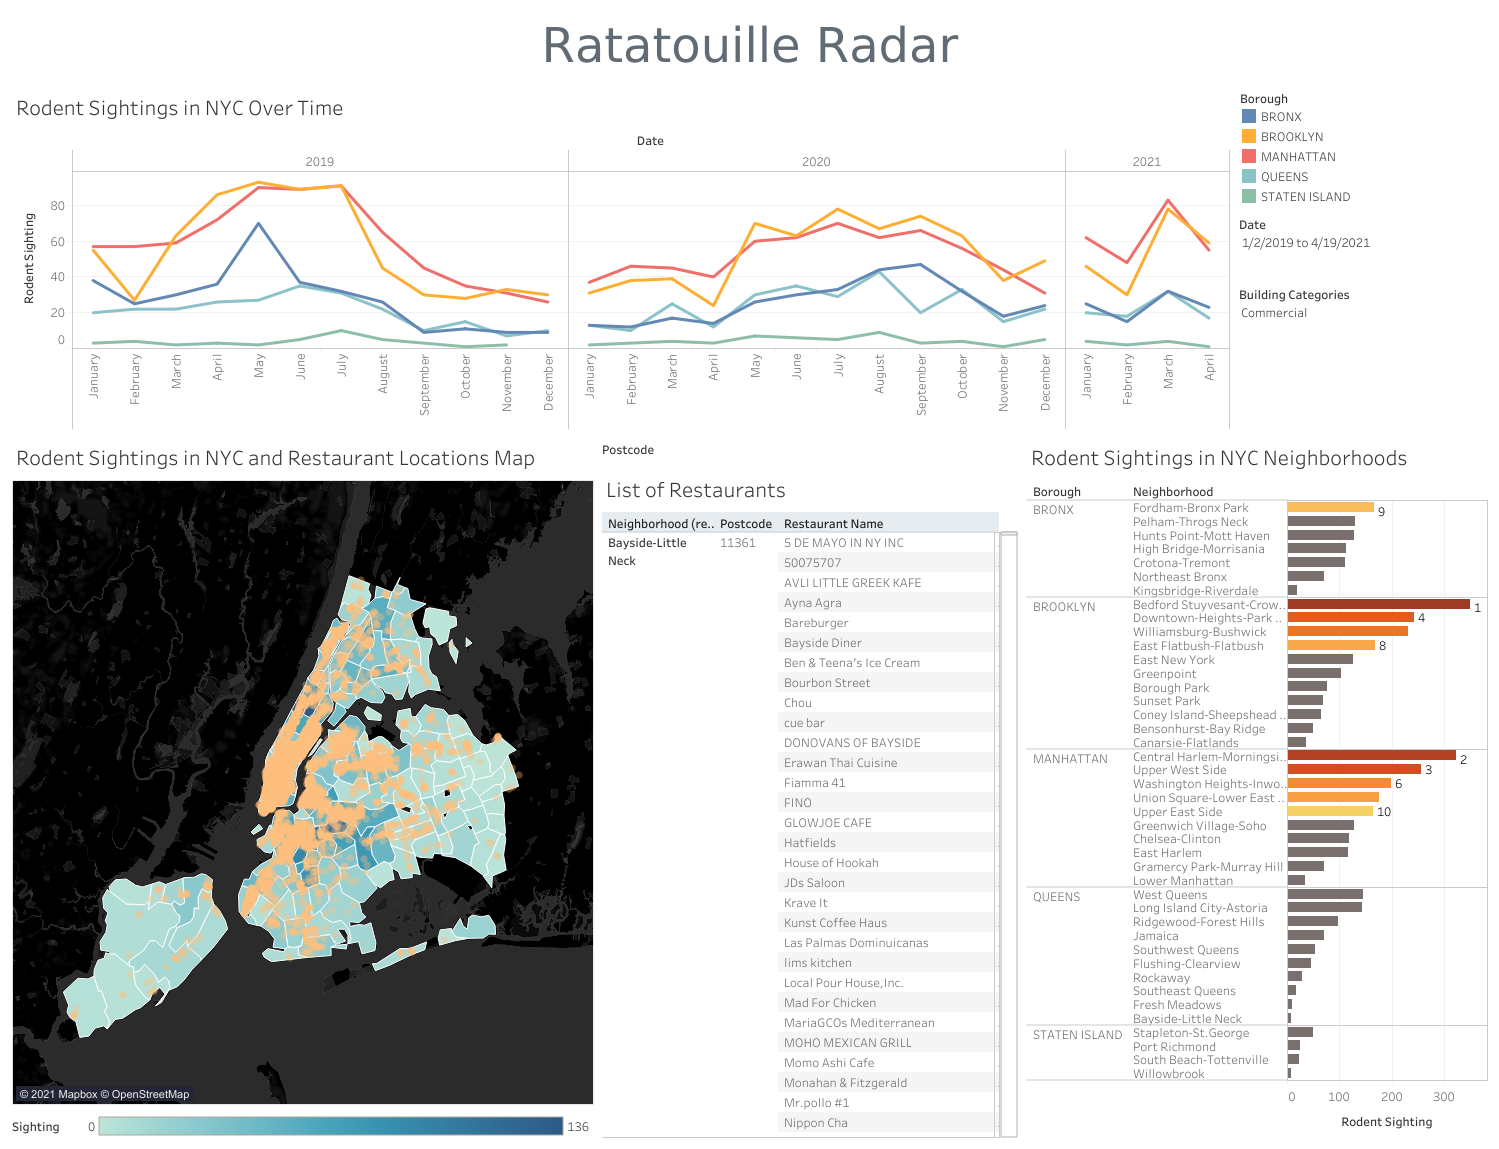

Layout of this report page (visuals, bound fields, positions):
{"tool":"tableau","page":{"name":"User Dashboard","canvas":[1500,1150],"ordinal":0},"visuals":[{"type":"worksheet","box":[0,0,1500,1150]},{"type":"worksheet","box":[8,8,1484,75]},{"type":"worksheet","param":"horz","box":[8,83,1484,350]},{"type":"worksheet","box":[8,83,1227,350]},{"type":"worksheet","title":"Timeline","mark":"Automatic","rows":["Rodent Sighting"],"cols":["Created Date","Created Date"],"box":[8,83,1227,350]},{"type":"worksheet","param":"vert","box":[1235,83,257,350]},{"type":"worksheet","title":"Timeline","mark":"Automatic","rows":["Rodent Sighting"],"cols":["Created Date","Created Date"],"param":"[federated.16pvdnm19e7wta1gl4vkn0poxxm2].[none:Borough:nk]","box":[1235,83,257,126]},{"type":"worksheet","title":"Map","mark":"Multipolygon","param":"[federated.16pvdnm19e7wta1gl4vkn0poxxm2].[none:Created Date:qk]","box":[1235,209,257,69]},{"type":"worksheet","title":"Map","mark":"Multipolygon","param":"[federated.16pvdnm19e7wta1gl4vkn0poxxm2].[none:building categories:nk]","box":[1235,278,257,52]},{"type":"worksheet","title":"Map","mark":"Multipolygon","box":[8,433,590,676]},{"type":"worksheet","title":"List of Restaurants","mark":"Text","rows":["Neighborhood (restaurants!clean)","Postcode","RestaurantName"],"param":"[federated.16pvdnm19e7wta1gl4vkn0poxxm2].[none:Postcode:ok]","box":[598,433,425,32]},{"type":"worksheet","title":"Sighting by neighborhood","mark":"Automatic","rows":["Borough","Neighborhood"],"cols":["Rodent Sighting"],"box":[1023,433,469,709]},{"type":"worksheet","title":"List of Restaurants","mark":"Text","rows":["Neighborhood (restaurants!clean)","Postcode","RestaurantName"],"box":[598,465,425,677]},{"type":"worksheet","title":"Map","mark":"Multipolygon","param":"[federated.16pvdnm19e7wta1gl4vkn0poxxm2].[sum:Rodent Sighting:qk]","box":[8,1109,590,33]}]}

Visuals, with their boxes in screenshot pixels (x1, y1, x2, y2), scaled from the page's 1500x1150 canvas onto the 1499x1149 screenshot:
worksheet: bbox=[0, 0, 1498, 1148]
worksheet: bbox=[8, 8, 1491, 83]
worksheet: bbox=[8, 83, 1491, 433]
worksheet: bbox=[8, 83, 1234, 433]
"Timeline" worksheet: bbox=[8, 83, 1234, 433]
worksheet: bbox=[1234, 83, 1491, 433]
"Timeline" worksheet: bbox=[1234, 83, 1491, 209]
"Map" worksheet (Multipolygon marks): bbox=[1234, 209, 1491, 278]
"Map" worksheet (Multipolygon marks): bbox=[1234, 278, 1491, 330]
"Map" worksheet (Multipolygon marks): bbox=[8, 433, 598, 1108]
"List of Restaurants" worksheet (Text marks): bbox=[598, 433, 1022, 465]
"Sighting by neighborhood" worksheet: bbox=[1022, 433, 1491, 1141]
"List of Restaurants" worksheet (Text marks): bbox=[598, 465, 1022, 1141]
"Map" worksheet (Multipolygon marks): bbox=[8, 1108, 598, 1141]
